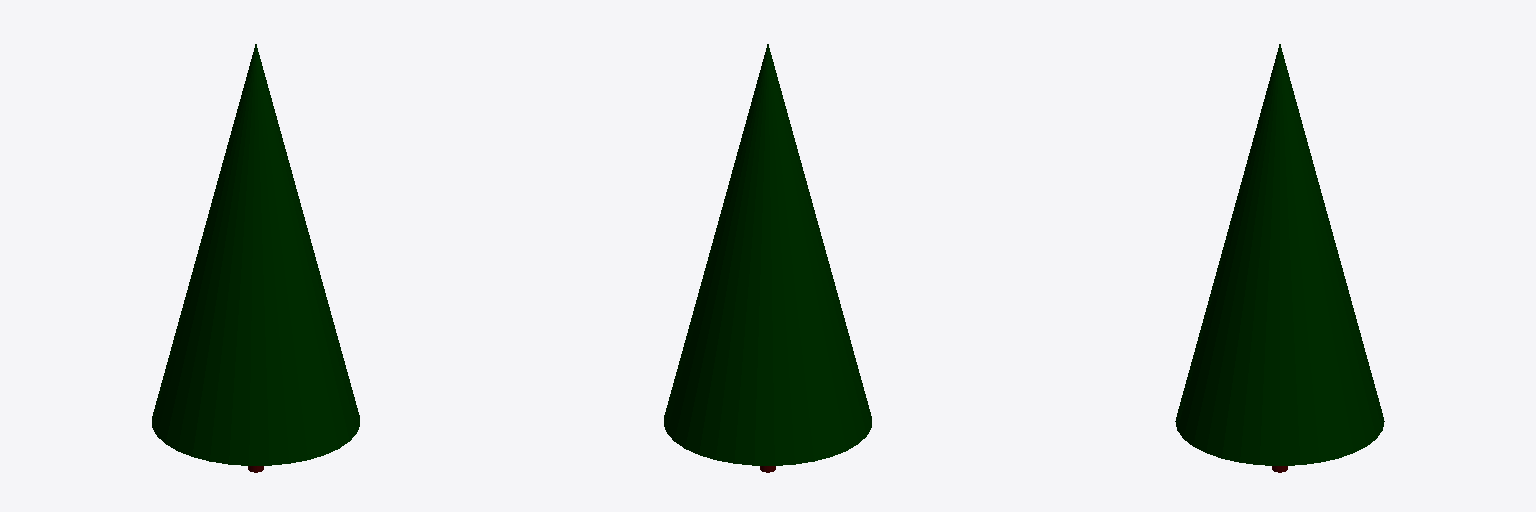
Rendered from Conifer.obj.
The picture shows the model from 3 angles: view 1: azimuth 30°, elevation 25°; view 2: azimuth 150°, elevation 25°; view 3: azimuth 270°, elevation 25°; orthographic projection.
Parts seen in each view (by area): view 1: Tree; view 2: Tree; view 3: Tree.
Boxes of the visible parts, x1,y1,x2,y2 form: Tree: [152, 44, 359, 472]; Tree: [664, 44, 871, 472]; Tree: [1175, 44, 1384, 472].
Bounding box in the file's own units: 8 × 18 × 8.